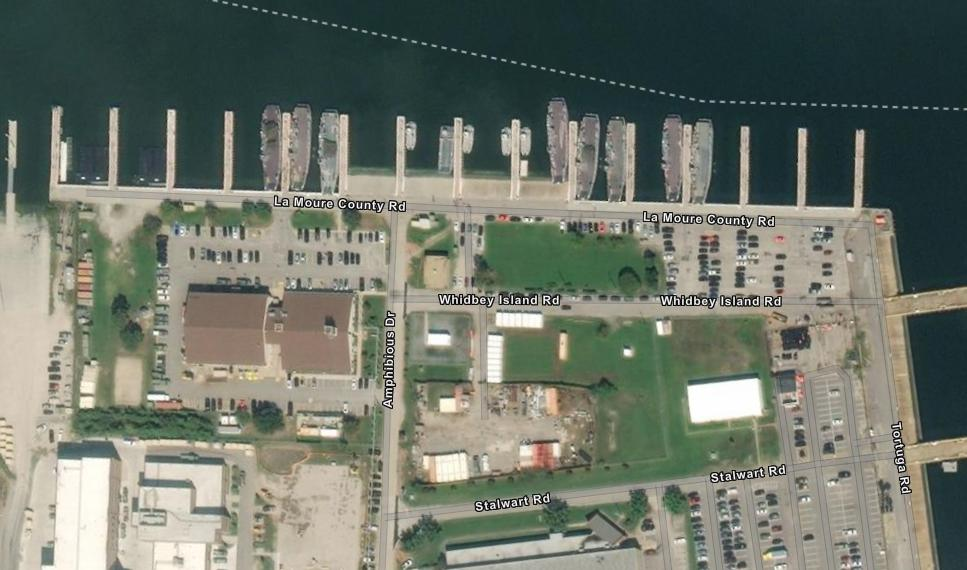barge: (655, 109, 688, 203), (691, 112, 717, 209), (317, 105, 343, 200), (546, 93, 572, 184), (605, 108, 629, 206), (259, 101, 283, 196), (289, 99, 311, 198), (578, 110, 599, 203)
